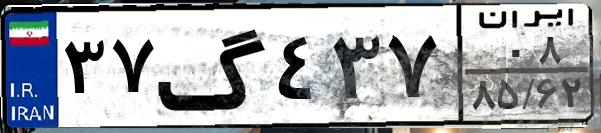0: (508, 27, 537, 80)
2: (560, 70, 590, 125)
3: (330, 28, 385, 110), (57, 26, 110, 100)
4: (270, 28, 330, 110)
5: (495, 70, 520, 125)
6: (535, 70, 560, 125)
7: (385, 28, 445, 110), (110, 28, 156, 98)
8: (537, 27, 568, 80), (470, 70, 495, 125)
گ: (156, 12, 270, 120)
